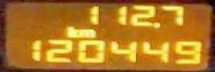-: (151, 21, 160, 28)
0: (74, 39, 104, 63)
1: (87, 5, 99, 25), (114, 6, 126, 25), (30, 38, 39, 61)
2: (43, 38, 71, 61), (128, 5, 154, 26)
4: (109, 40, 136, 62), (140, 41, 168, 62)
7: (160, 5, 183, 25)
9: (172, 40, 201, 63)
X: (64, 26, 77, 38), (77, 28, 94, 37)
